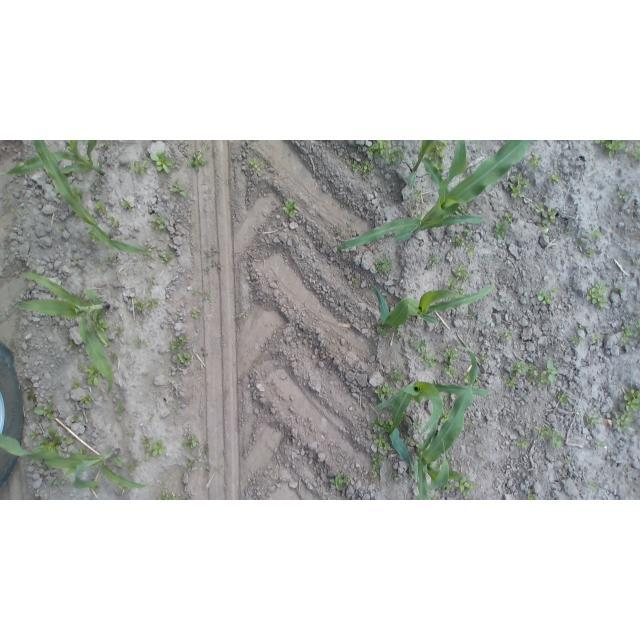Maize: (337, 140, 534, 248), (32, 141, 150, 256), (374, 381, 490, 490), (14, 273, 114, 395), (413, 345, 478, 500), (1, 432, 152, 492), (370, 279, 494, 329), (408, 140, 472, 218), (1, 140, 106, 177)
Weeds: (616, 388, 640, 432), (366, 140, 404, 165), (428, 140, 448, 172), (593, 140, 627, 158), (40, 426, 61, 455), (441, 347, 460, 377), (587, 283, 608, 310), (150, 151, 175, 173), (538, 360, 558, 387), (455, 476, 478, 499), (495, 212, 514, 238), (510, 173, 530, 197), (91, 308, 110, 332), (536, 287, 559, 306), (368, 454, 386, 478), (34, 401, 55, 420), (84, 362, 100, 386), (330, 473, 351, 491), (126, 161, 150, 176), (509, 361, 528, 379), (188, 154, 207, 172), (374, 433, 391, 453), (371, 418, 393, 433), (373, 259, 391, 277), (170, 334, 187, 353), (374, 382, 394, 398), (549, 428, 564, 449), (447, 278, 465, 295), (452, 264, 468, 283), (422, 351, 438, 369), (410, 338, 427, 354), (169, 183, 187, 198), (391, 365, 405, 384), (620, 325, 632, 347), (183, 435, 199, 450), (544, 207, 558, 224), (377, 319, 390, 337), (537, 219, 549, 238), (283, 201, 297, 217), (628, 143, 640, 161), (362, 159, 374, 177), (157, 490, 178, 500), (152, 215, 167, 229), (152, 440, 165, 456), (88, 226, 101, 242), (534, 426, 549, 439), (585, 414, 599, 427), (178, 352, 191, 366), (250, 158, 264, 171), (528, 155, 540, 170), (528, 365, 538, 382), (514, 438, 530, 448), (439, 406, 449, 422), (133, 298, 145, 311), (548, 172, 561, 184), (452, 236, 464, 249), (590, 229, 602, 241), (122, 200, 134, 212), (160, 251, 172, 263), (557, 392, 567, 406), (350, 158, 360, 172), (429, 252, 439, 266), (471, 376, 481, 389), (466, 242, 475, 256), (504, 379, 516, 389), (147, 298, 159, 308), (128, 458, 138, 470), (592, 331, 602, 343), (94, 202, 106, 212), (392, 325, 400, 339), (534, 202, 544, 213), (634, 320, 640, 338), (571, 336, 583, 345), (462, 372, 470, 385), (80, 395, 91, 404), (108, 217, 117, 228), (504, 329, 512, 341), (105, 253, 113, 265), (481, 353, 490, 363), (65, 436, 75, 445), (72, 379, 81, 389), (109, 350, 117, 361), (95, 334, 103, 345), (191, 310, 202, 318), (614, 286, 626, 293), (390, 470, 399, 479), (116, 403, 125, 412), (587, 249, 596, 258), (443, 393, 452, 402), (77, 448, 87, 456), (204, 251, 212, 261), (413, 419, 420, 430), (68, 340, 76, 349), (114, 326, 122, 335), (618, 190, 626, 199), (414, 190, 422, 199), (526, 493, 536, 500), (590, 479, 597, 489), (197, 147, 208, 153), (100, 141, 111, 147), (70, 414, 78, 422), (463, 228, 471, 236), (334, 226, 342, 234), (596, 441, 605, 448), (31, 431, 38, 440), (78, 362, 87, 369), (415, 212, 424, 219), (187, 460, 195, 467), (407, 436, 415, 443), (118, 485, 126, 492), (415, 443, 423, 450), (148, 283, 153, 294), (145, 451, 151, 460), (466, 313, 475, 319), (446, 457, 452, 466), (13, 161, 23, 166), (143, 441, 150, 448), (72, 257, 79, 264), (148, 245, 155, 252), (436, 463, 443, 470), (469, 423, 477, 429), (126, 430, 134, 436), (78, 189, 83, 198), (91, 486, 100, 491), (428, 496, 437, 501), (134, 339, 141, 345), (566, 229, 573, 235), (455, 207, 461, 214), (19, 210, 25, 217), (565, 457, 571, 463), (204, 294, 211, 299), (340, 205, 345, 212), (59, 226, 66, 231), (30, 269, 37, 274), (579, 325, 585, 330), (418, 148, 422, 155), (355, 279, 360, 284), (439, 490, 444, 495), (412, 160, 416, 166), (66, 145, 70, 151), (633, 260, 638, 264), (206, 466, 210, 471), (448, 484, 452, 489), (179, 498, 186, 500), (18, 174, 21, 176)
